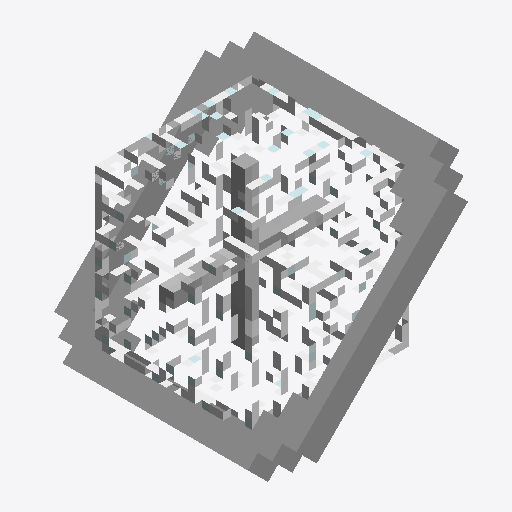
A Minecraft block model of 20 cuboids, rendered isometrically (azimuth 45°, elevation 35.3°) with the resource pack's own textures.
Parts seen in each view (by area): circle, circle4, sphere6 (×2), sphere5 (×2), sphere, sphere7 (×2), circle5, circle3, sphere4 (×2), circle2, side2, arrow (+3 smaller).
Boxes of the visible parts, x1,y1,x2,y2 form: circle: [58, 41, 462, 472]; circle4: [282, 182, 467, 462]; sphere6 (×2): [95, 75, 379, 403]; sphere5 (×2): [95, 190, 408, 420]; sphere: [95, 77, 404, 429]; sphere7 (×2): [126, 79, 379, 416]; circle5: [244, 32, 458, 167]; circle3: [63, 346, 277, 481]; sphere4 (×2): [266, 120, 408, 417]; circle2: [54, 50, 218, 319]; side2: [159, 194, 329, 308]; arrow: [231, 153, 258, 349].
Bounding box in the file's own units: 15.56 × 15.29 × 17.